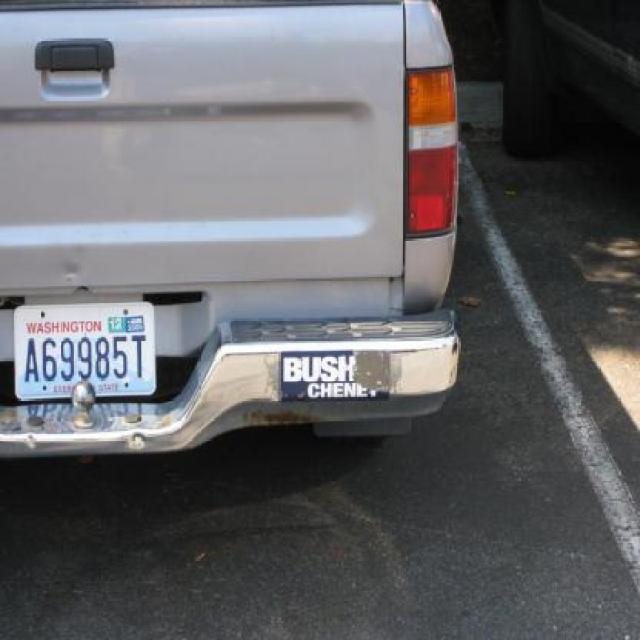License-Plates: (13, 304, 156, 400)
